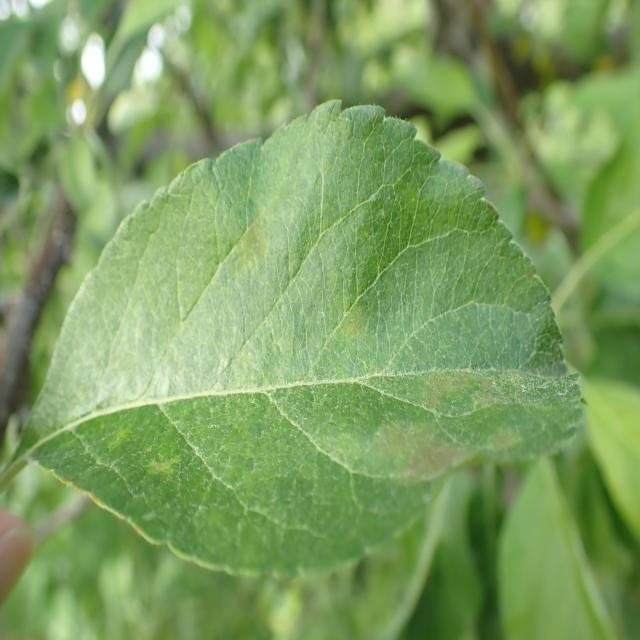scab: (42, 204, 588, 517)
